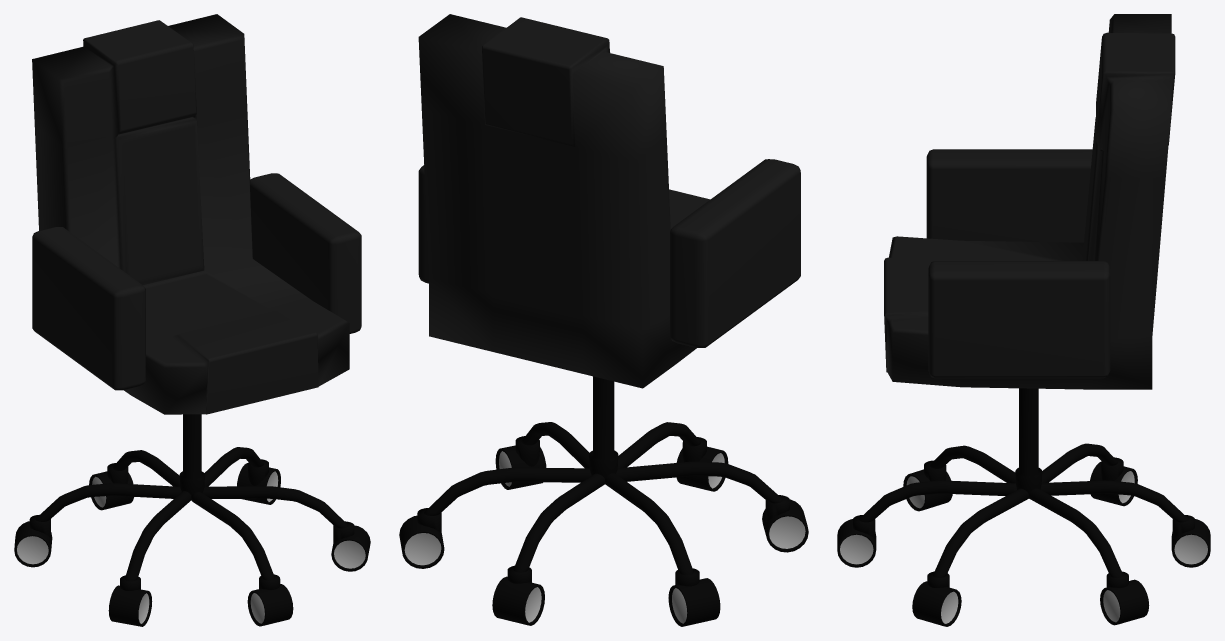
File: Aato_chair.fbx
The picture shows the model from 3 angles, left to right: view 1: azimuth 30°, elevation 25°; view 2: azimuth 150°, elevation 25°; view 3: azimuth 270°, elevation 25°; orthographic projection. The views are drawn at different scales.
Visible parts, largest first — view 1: pCylinder15; view 2: pCylinder15; view 3: pCylinder15.
Boxes of the visible parts, x1=… form: pCylinder15: x1=14, y1=14, x2=370, y2=626; pCylinder15: x1=399, y1=14, x2=808, y2=626; pCylinder15: x1=837, y1=14, x2=1210, y2=626.
Bounding box in the file's own units: 0.0286 × 0.048 × 0.0319.
Materials: 2 (1 with a texture image).
